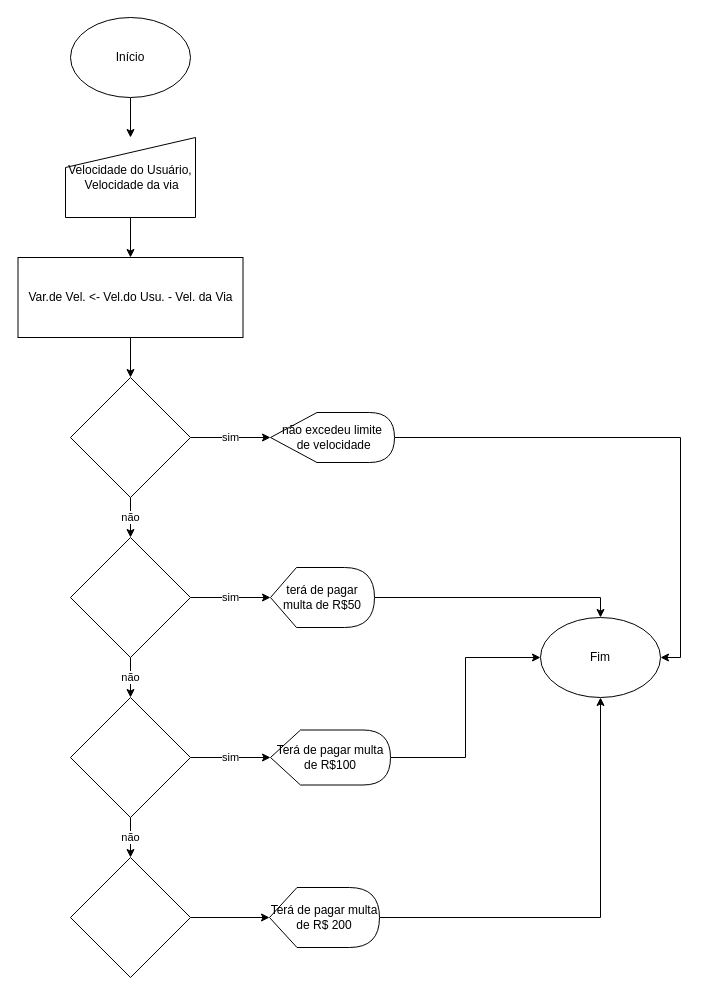
Some shapes in this 706 by 995 pixel diagram are drawn without their labels. The box of each missing label's shape, as (x1, y1, x2, y2) in pixels:
Var. de Vel >=11 e Var. de Vel <= 30: (70, 696, 190, 818)
Var. de Vel. >= 31: (70, 856, 190, 978)
Var.de Vel <= 10: (70, 536, 190, 658)
Var.de Vel <= Vel. da Via: (70, 376, 190, 498)
